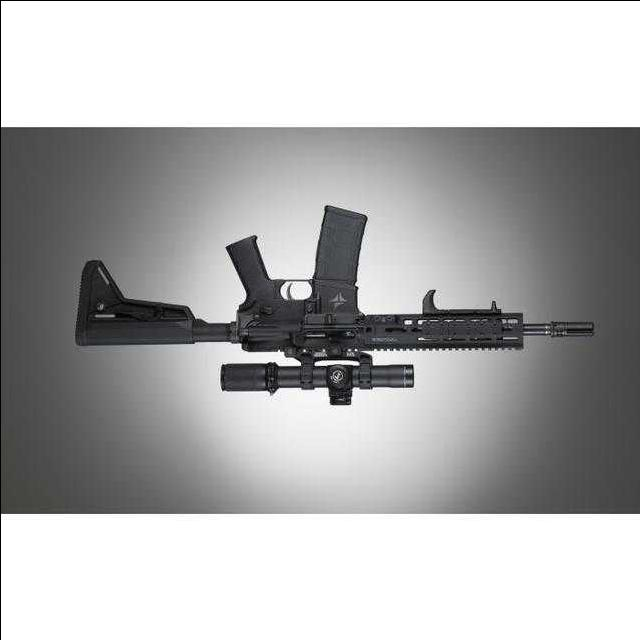heavyweapon: (66, 186, 620, 416)
